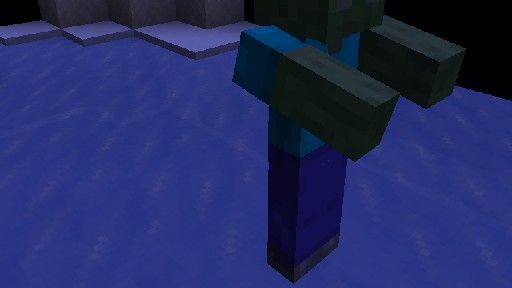zombie: (231, 0, 466, 283)
